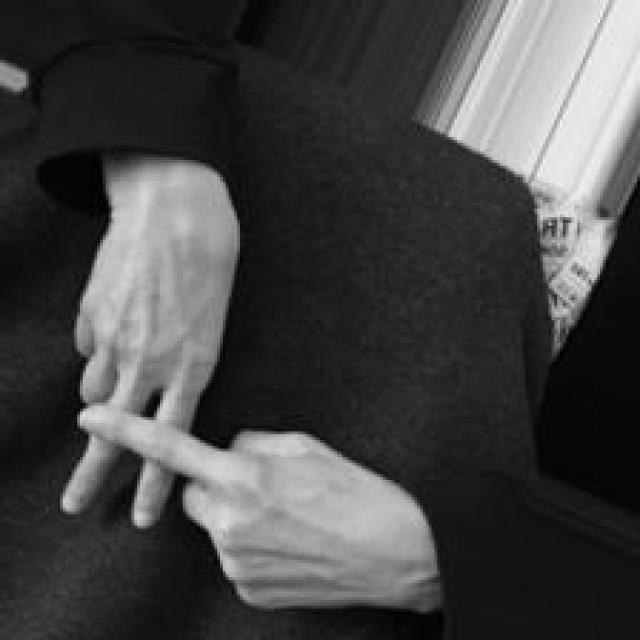A: (57, 208, 340, 640)
